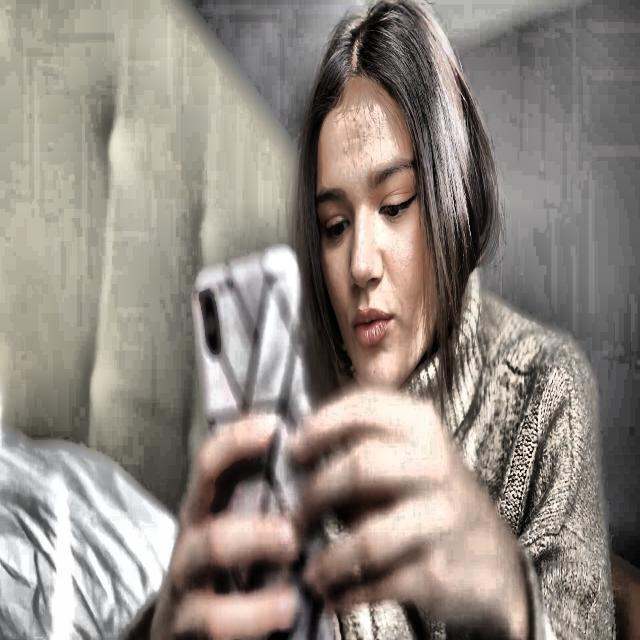Phone: (191, 245, 329, 640)
